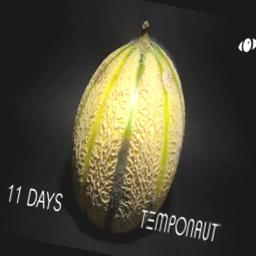Melon Ripe: (50, 8, 208, 237)
